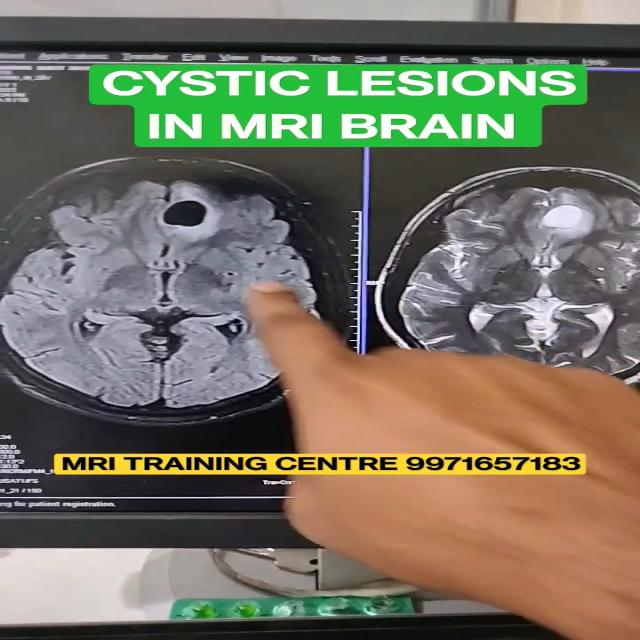tumor: (152, 179, 240, 242), (511, 197, 618, 241)
